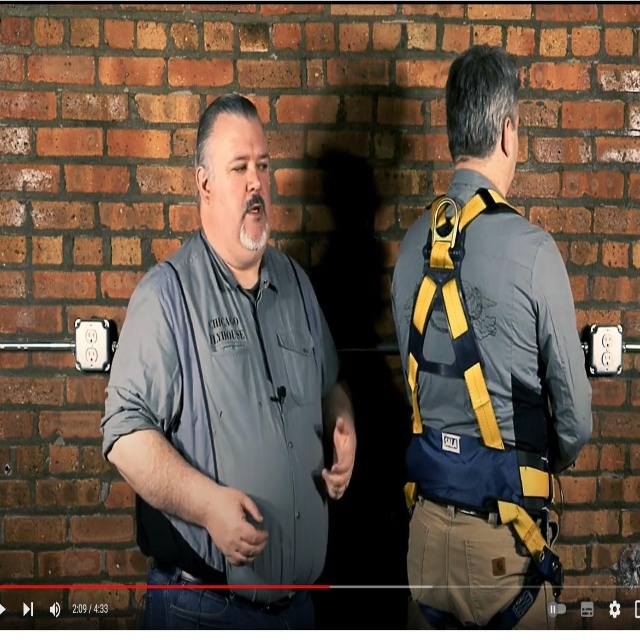Arnes_seguridad: (400, 191, 563, 630)
